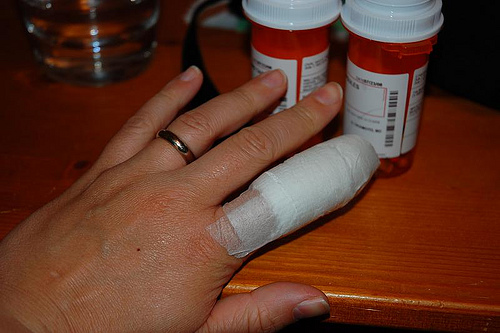pill bottle: (344, 1, 446, 175)
